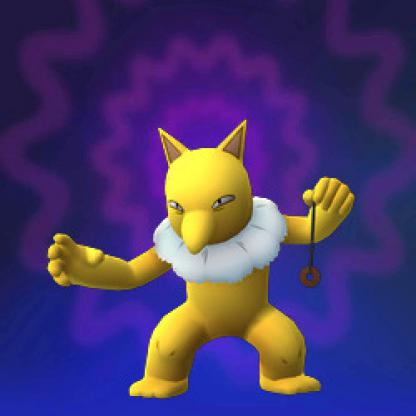Hypno: (42, 131, 353, 402)
